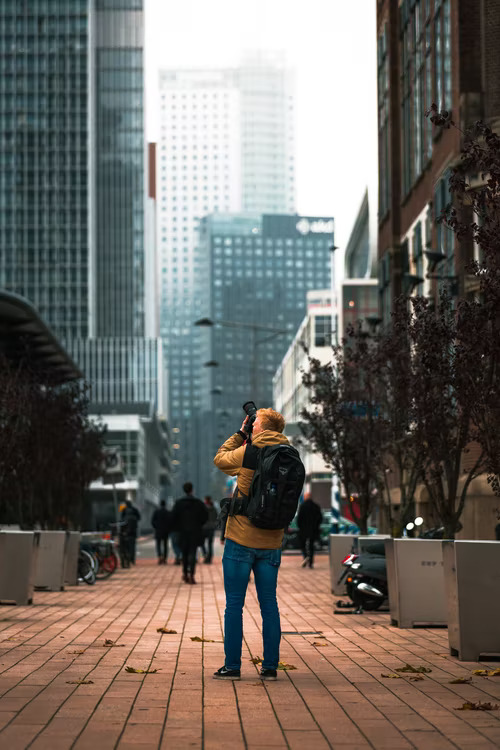person: (211, 407, 304, 681)
